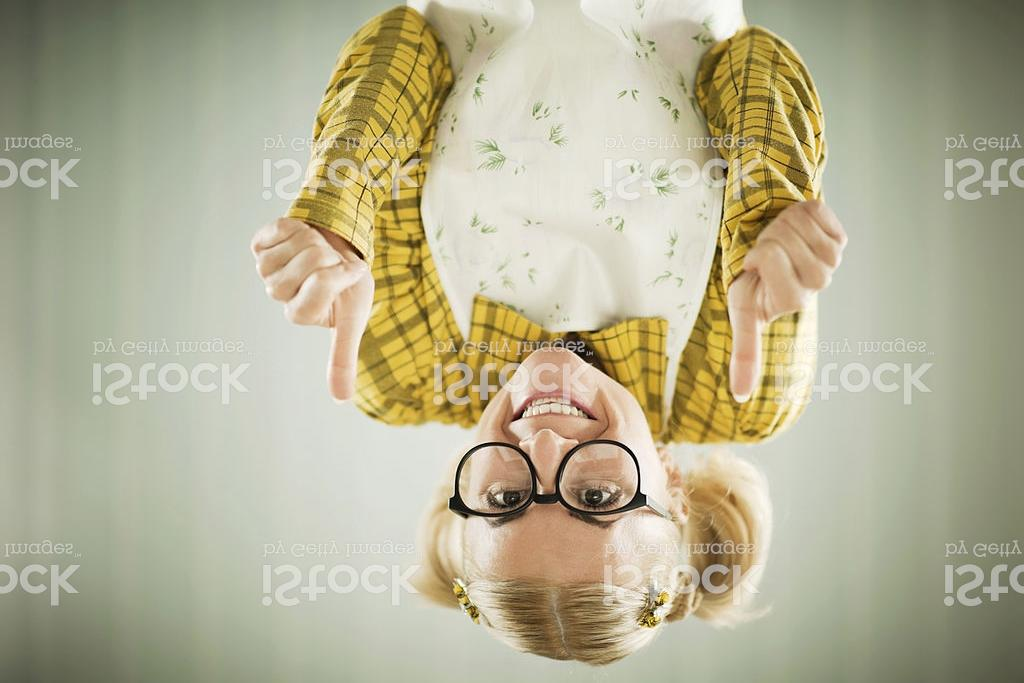thumbsdown: (726, 196, 850, 405), (247, 214, 376, 404)
